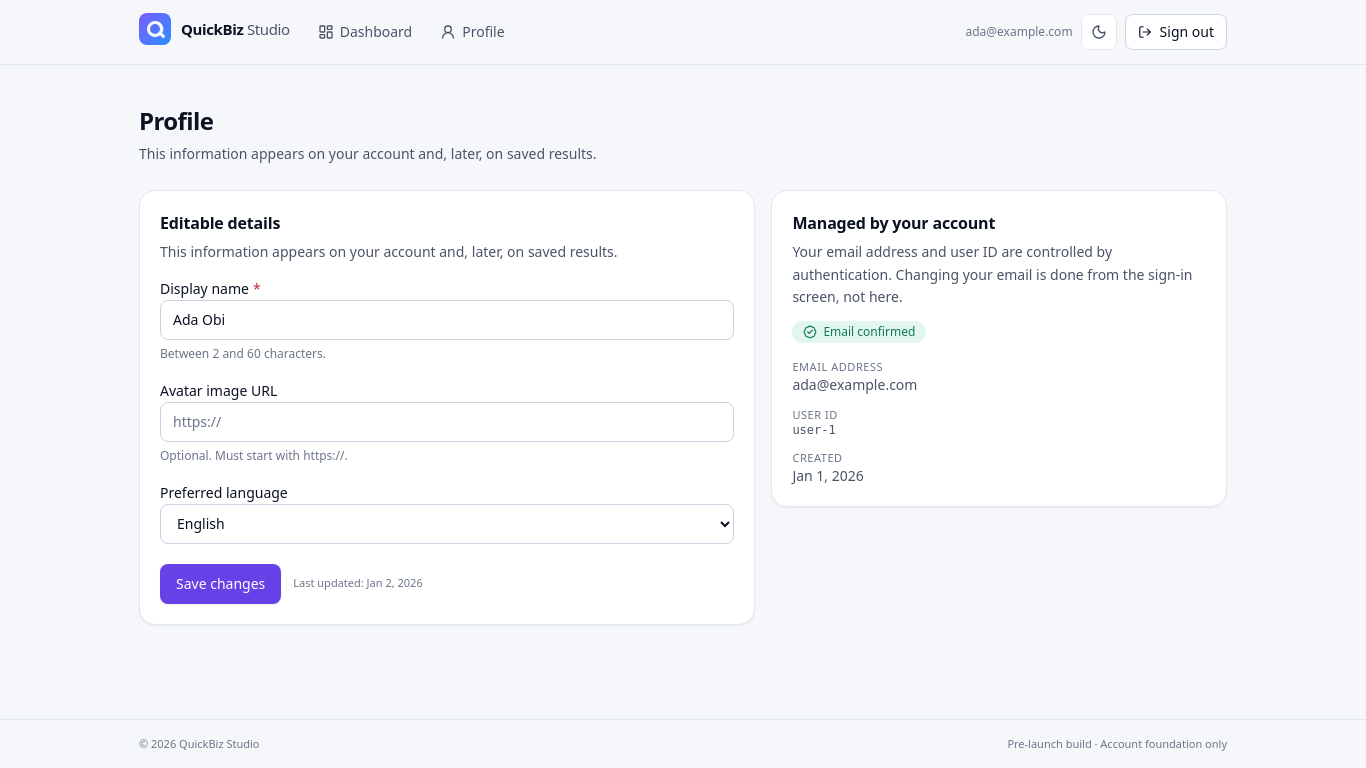
Scenario: ProfilePage › rejects an insecure avatar URL before saving
expect the field showing "Ada Obi" is shown: met, box [160,300,734,340]
Type "http://example.com/a.png" into the field labelled "Avatar image URL" at coordinates (447, 422), box [160,402,734,442]
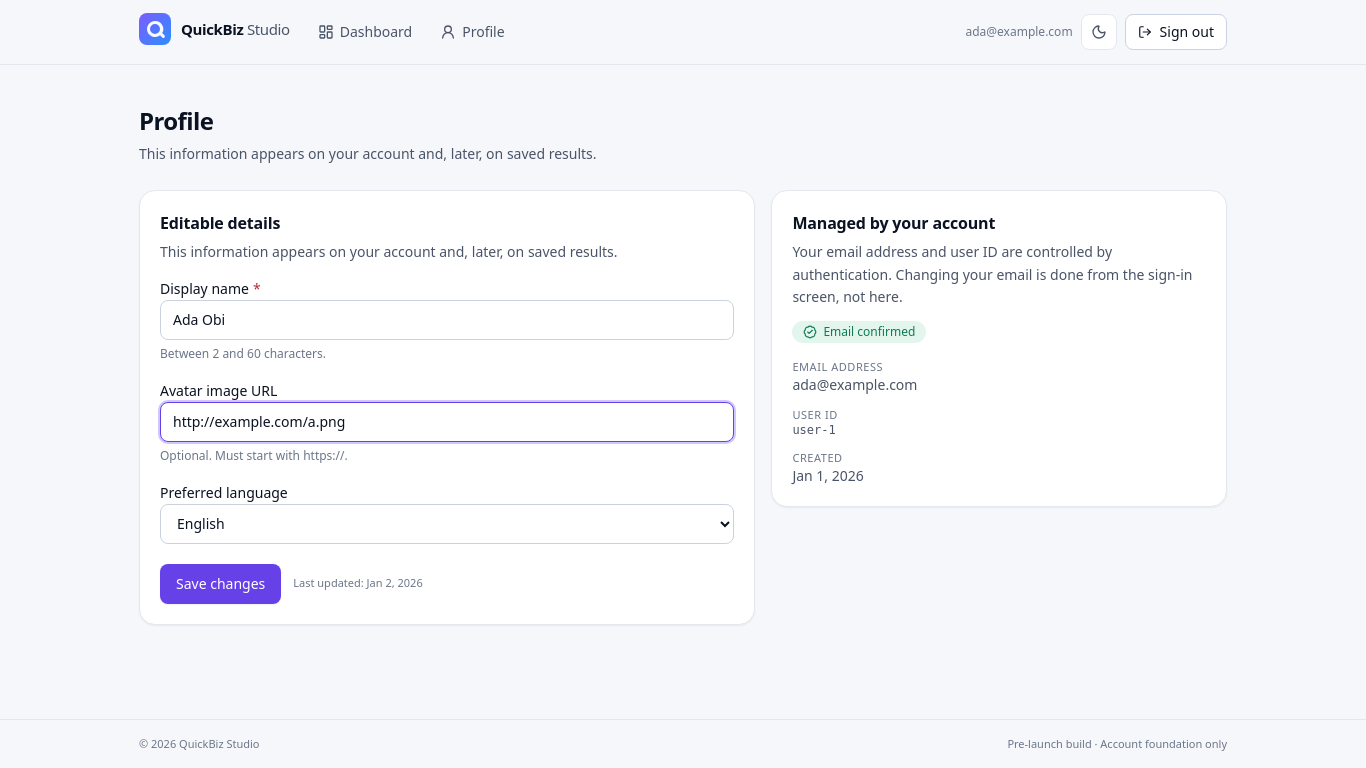
Click the button "Save changes" at coordinates (221, 584), box [160,564,281,604]
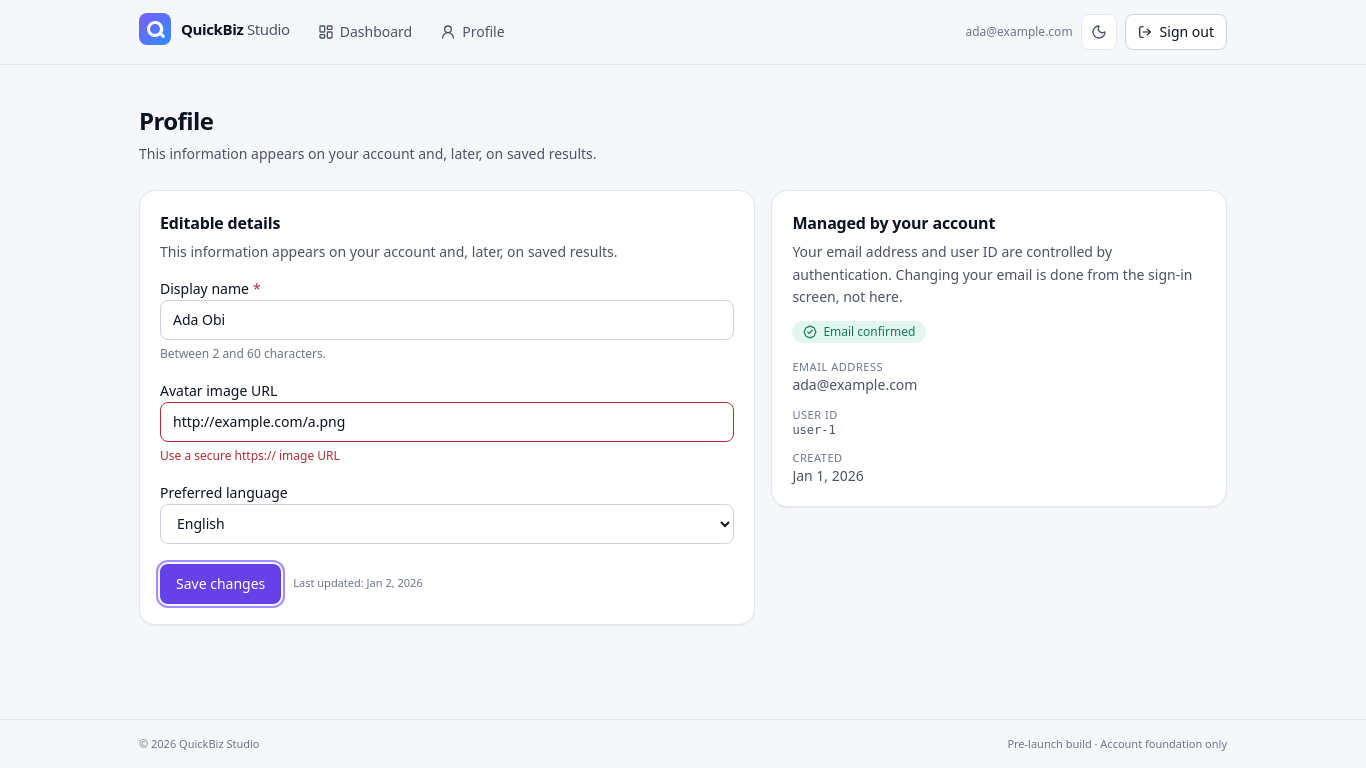
expect the text "Use a secure https:// image URL" is shown: met, box [160,446,340,464]
